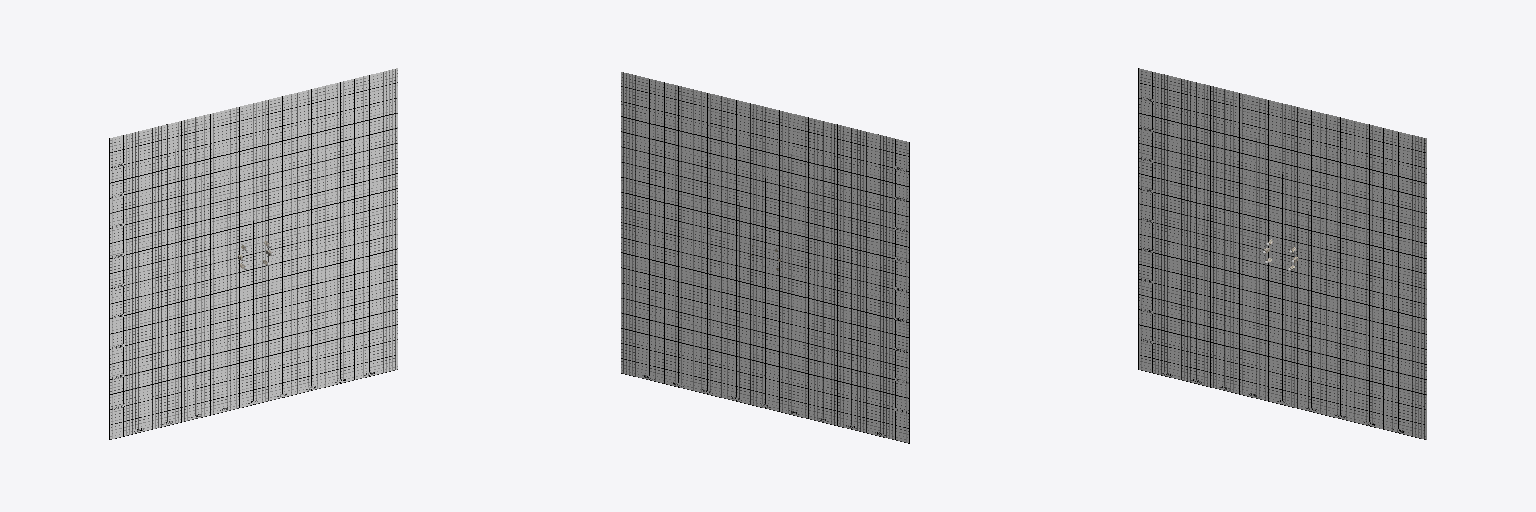
The picture shows the model from 3 angles: view 1: azimuth 30°, elevation 25°; view 2: azimuth 150°, elevation 25°; view 3: azimuth 330°, elevation 25°; orthographic projection.
Parts seen in each view (by area): view 1: Square100m; view 2: Square100m; view 3: Square100m.
Part boxes in pixels (bbox=[...]): Square100m: bbox=[109, 68, 397, 439]; Square100m: bbox=[621, 72, 909, 443]; Square100m: bbox=[1138, 68, 1426, 439].
Size of the model in its own units: 100 by 100 by 3.
3 materials, 2 textured.